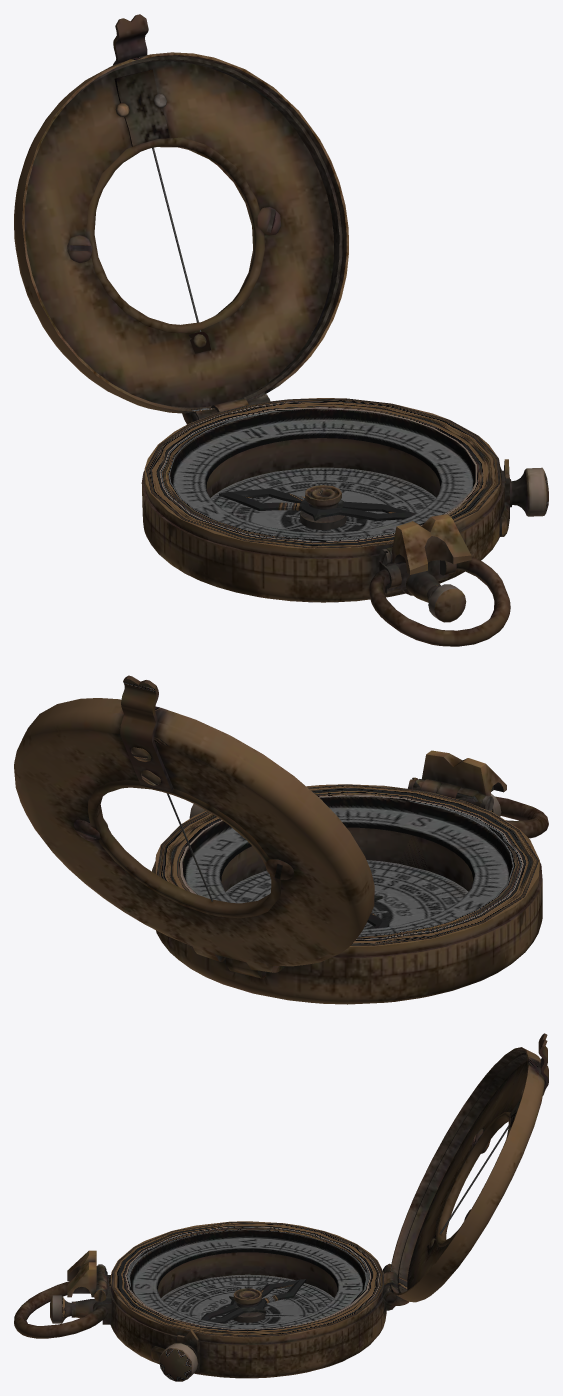
The model's file is seadogs_compass.glb.
3 renders of one model, top to bottom at view 1: azimuth 30°, elevation 25°; view 2: azimuth 150°, elevation 25°; view 3: azimuth 270°, elevation 25°, orthographic. The views are drawn at different scales.
Visible parts, largest first — view 1: seadogs_compass; view 2: seadogs_compass; view 3: seadogs_compass.
Part boxes in pixels (left/top/right/bottom): seadogs_compass: left=14, top=14, right=548, bottom=646; seadogs_compass: left=14, top=675, right=548, bottom=1004; seadogs_compass: left=14, top=1033, right=548, bottom=1381.
Size of the model in its own units: 0.0812 by 0.0866 by 0.1441.
Materials: 1 (1 with a texture image).
